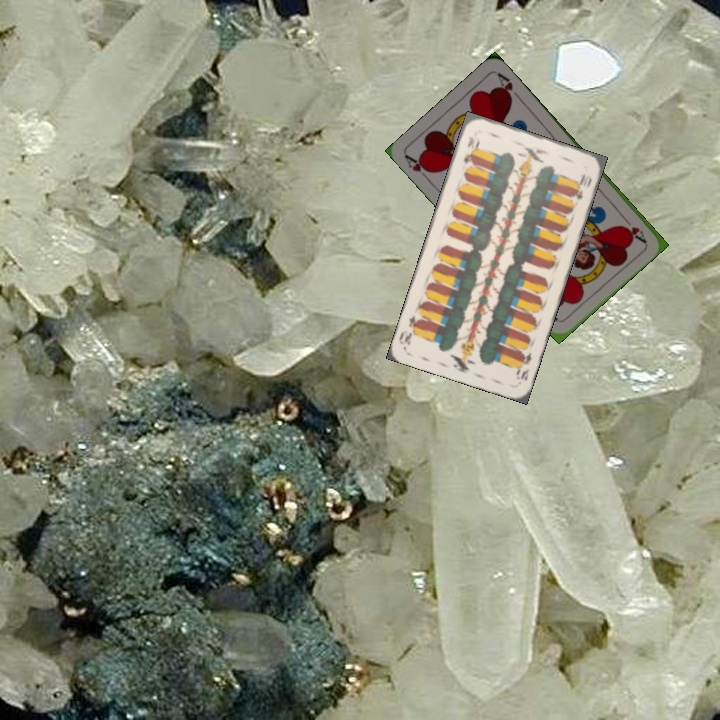E10: (459, 132, 481, 167), (512, 348, 534, 383)
HA: (401, 151, 435, 185), (617, 211, 648, 245)
